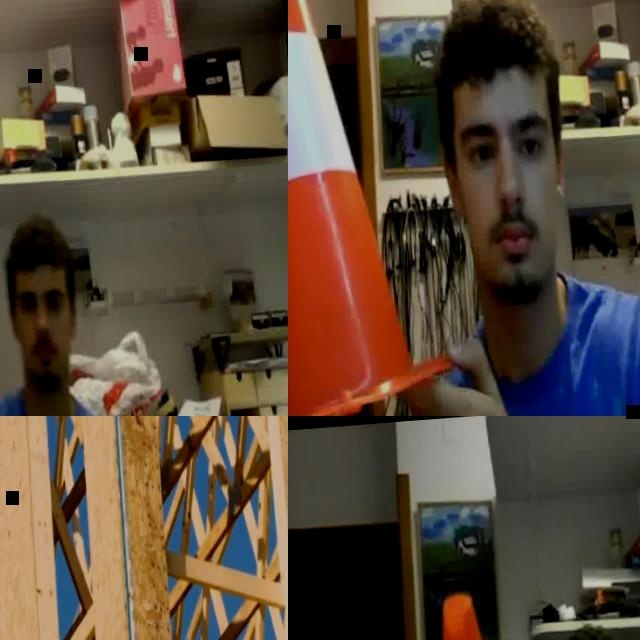NO-Hardhat: (435, 0, 552, 107), (0, 217, 73, 285), (543, 618, 639, 640)
NO-Mask: (466, 210, 559, 300), (20, 339, 67, 386)
NO-Safety Vest: (443, 284, 634, 416)
Person: (288, 0, 640, 416), (0, 206, 146, 416), (386, 572, 640, 640)
Safety Cone: (288, 0, 461, 416)
